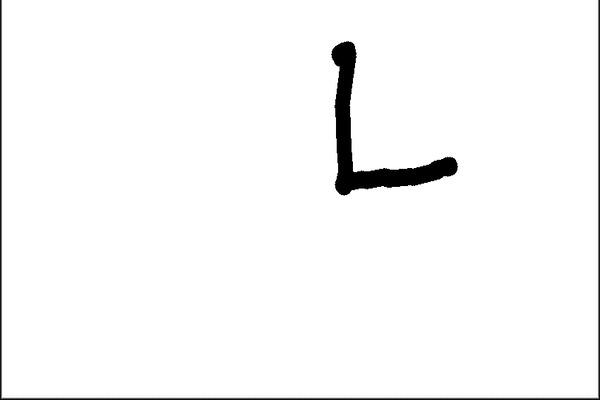L: (321, 35, 463, 199)
